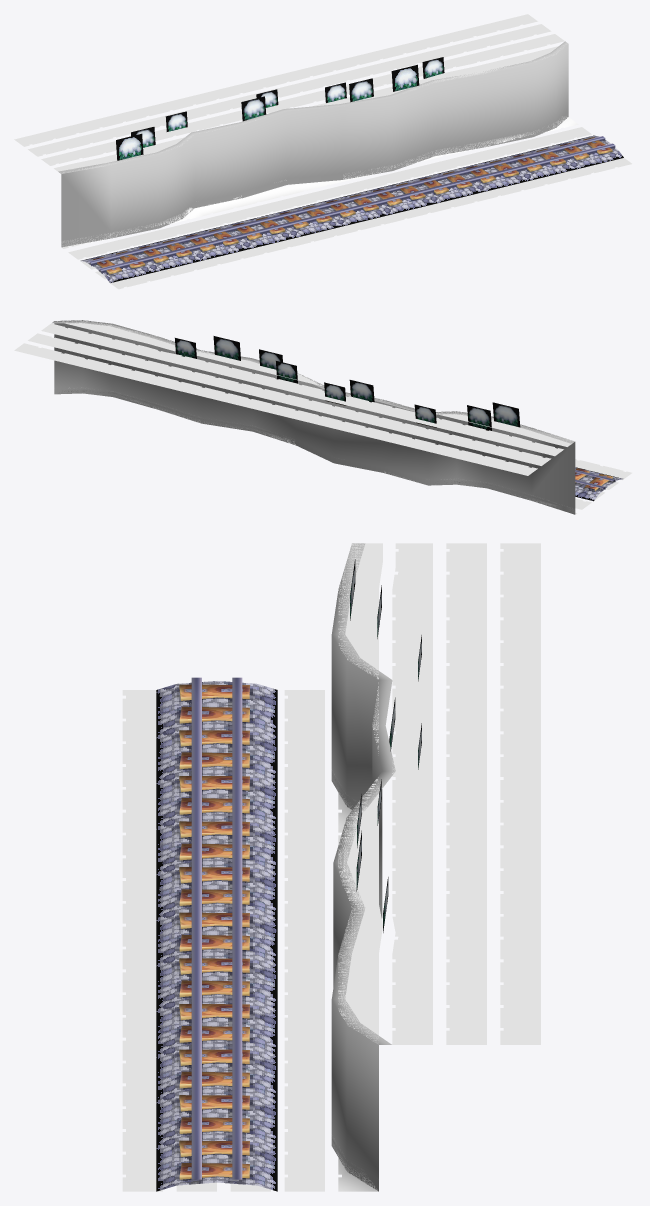
File: robj_En_0.dae
3 renders of one model, top to bottom at view 1: azimuth 30°, elevation 25°; view 2: azimuth 150°, elevation 25°; view 3: azimuth 270°, elevation 25°, orthographic. The views are drawn at different scales.
Visible parts, largest first — view 1: vsn_mesh_1_, vsn_mesh_2_, vsn_mesh_0_, vsn_mesh_3_; view 2: vsn_mesh_1_, vsn_mesh_2_, vsn_mesh_0_, vsn_mesh_3_; view 3: vsn_mesh_2_, vsn_mesh_3_, vsn_mesh_0_, vsn_mesh_1_.
Part boxes in pixels (x1,y1,x2,y2): vsn_mesh_1_: (58,41,568,247); vsn_mesh_2_: (14,14,631,289); vsn_mesh_0_: (89,57,615,274); vsn_mesh_3_: (81,135,623,282); vsn_mesh_1_: (52,320,575,514); vsn_mesh_2_: (14,320,631,514); vsn_mesh_0_: (175,336,615,490); vsn_mesh_3_: (575,467,622,501); vsn_mesh_2_: (122,543,540,1191); vsn_mesh_3_: (156,681,277,1191); vsn_mesh_0_: (179,559,421,1179); vsn_mesh_1_: (331,543,395,1191).
Size of the model in its own units: 704 by 122 by 256.
